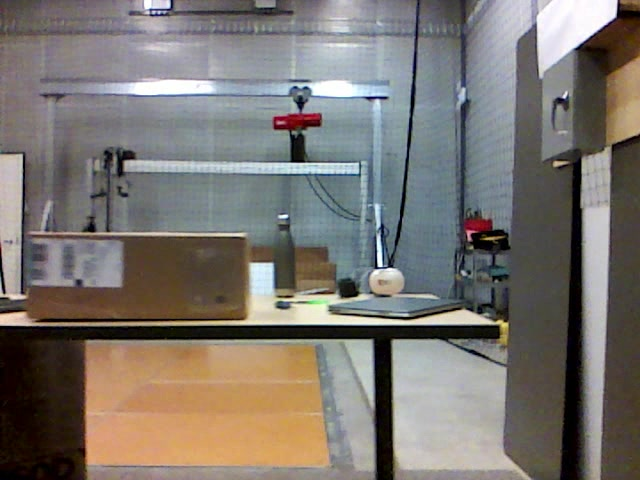box: (30, 232, 250, 319)
